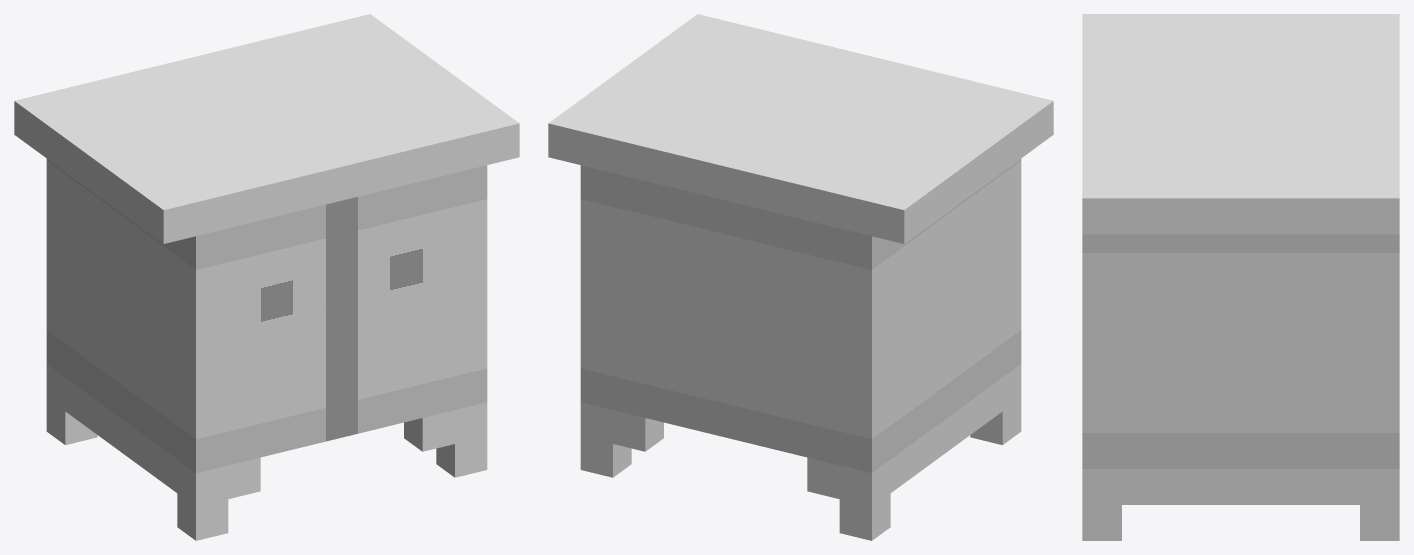
File: WhiteStand.fbx
3 views of the same model, side by side, from view 1: azimuth 30°, elevation 25°; view 2: azimuth 150°, elevation 25°; view 3: azimuth 270°, elevation 25° (orthographic). The views are drawn at different scales.
Parts seen in each view (by area): view 1: WhiteStand; view 2: WhiteStand; view 3: WhiteStand.
Part boxes in pixels (left/top/right/bottom): WhiteStand: left=14, top=14, right=519, bottom=540; WhiteStand: left=548, top=14, right=1053, bottom=540; WhiteStand: left=1082, top=14, right=1399, bottom=540.
Bounding box in the file's own units: 11 × 10 × 8.
Materials: 1 (1 with a texture image).
